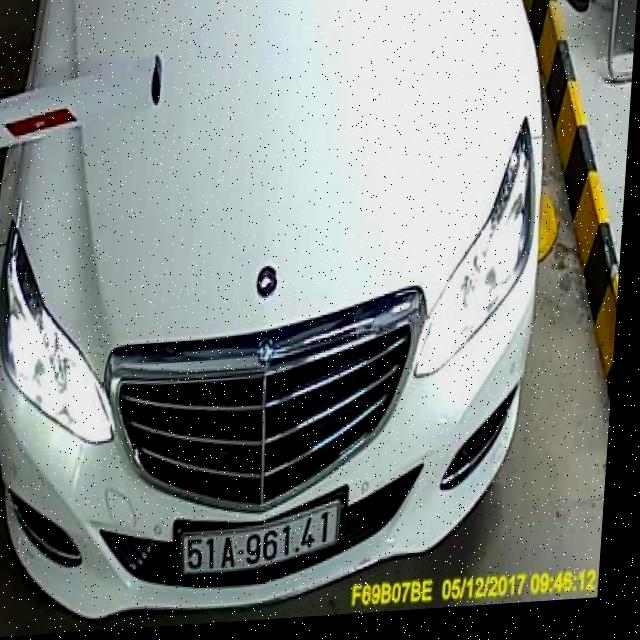car: (0, 0, 554, 609)
plate: (168, 507, 352, 578)
